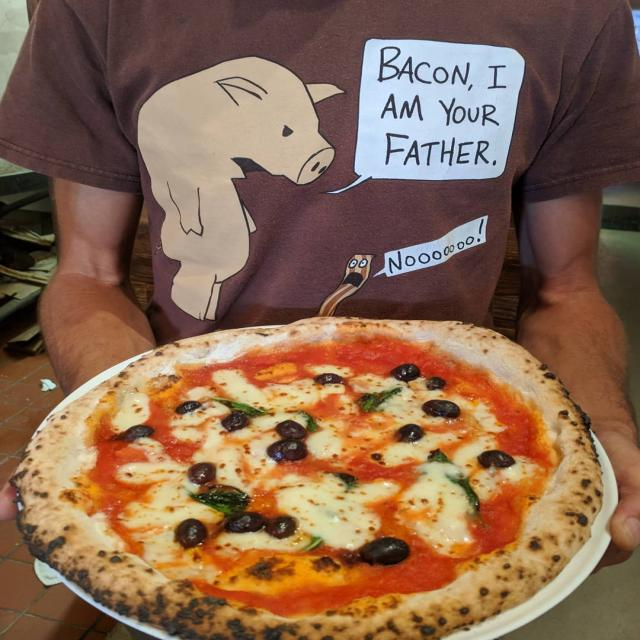basil: (431, 449, 482, 518), (186, 490, 250, 516), (215, 396, 269, 418), (357, 387, 403, 412), (294, 411, 320, 432)
black_olives: (360, 537, 412, 566), (175, 519, 208, 549), (267, 439, 309, 462), (421, 398, 463, 419), (223, 513, 266, 533), (264, 515, 300, 538), (476, 449, 516, 469), (392, 362, 424, 384), (276, 420, 310, 440), (394, 422, 424, 444), (119, 424, 155, 442), (224, 412, 250, 434), (189, 462, 215, 483), (316, 372, 344, 388), (422, 376, 447, 391), (175, 402, 201, 414)
pizza: (9, 313, 606, 640)
